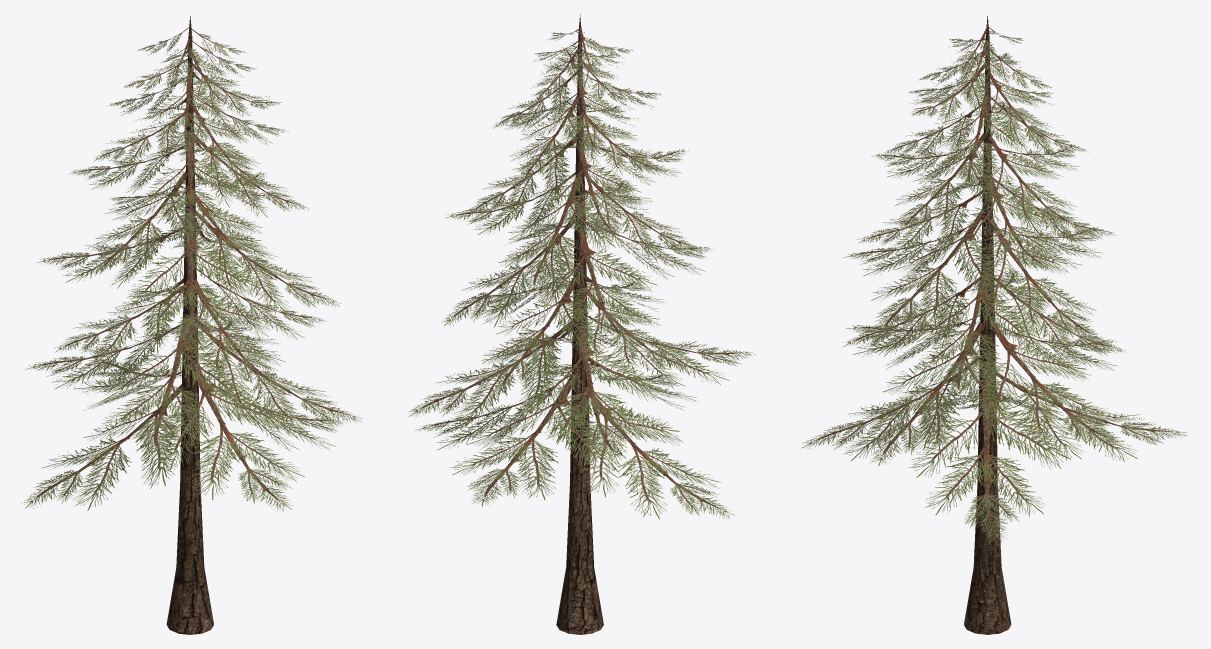
The model's file is SM_FOL_Pine_Tree_01_A.fbx.
The picture shows the model from 3 angles, left to right: view 1: azimuth 30°, elevation 25°; view 2: azimuth 150°, elevation 25°; view 3: azimuth 270°, elevation 25°; orthographic projection.
Parts seen in each view (by area): view 1: SM_FOL_Pine_Tree_01_A; view 2: SM_FOL_Pine_Tree_01_A; view 3: SM_FOL_Pine_Tree_01_A.
Boxes of the visible parts, left/top/right/bottom form: SM_FOL_Pine_Tree_01_A: left=21, top=16, right=362, bottom=634; SM_FOL_Pine_Tree_01_A: left=406, top=14, right=755, bottom=634; SM_FOL_Pine_Tree_01_A: left=801, top=16, right=1187, bottom=634.
Size of the model in its own units: 541 by 945 by 567.
Materials: 2 (2 with a texture image).
